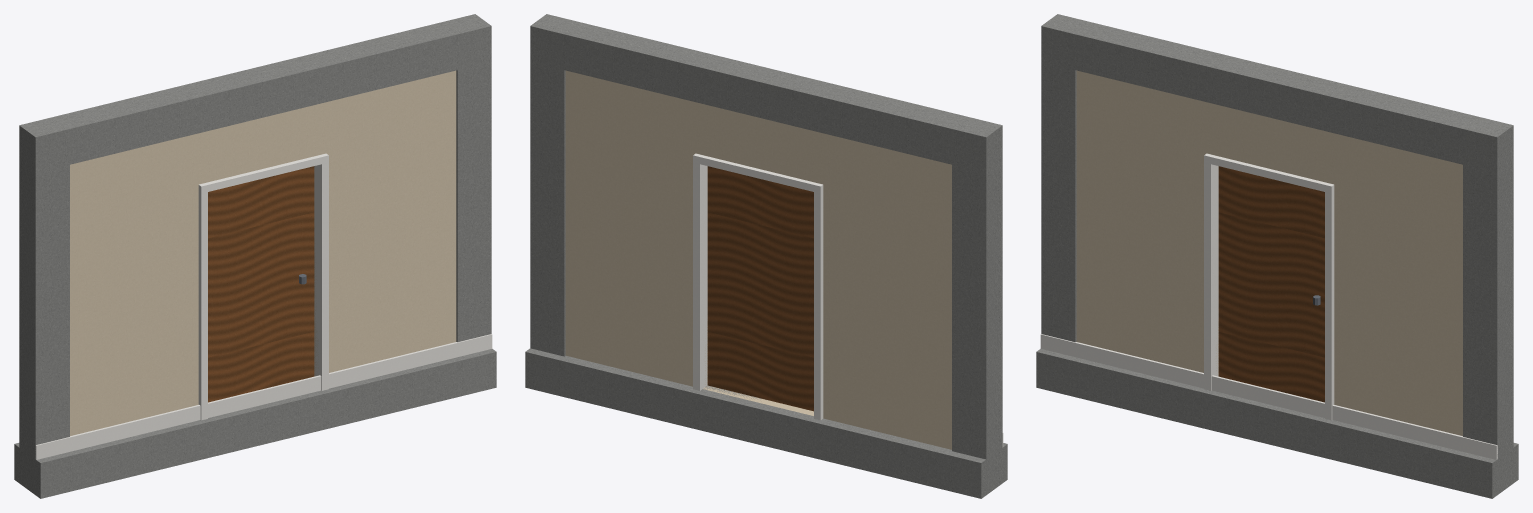
The model's file is estate_wall_door_5f.glb.
3 renders of one model, left to right at view 1: azimuth 30°, elevation 25°; view 2: azimuth 150°, elevation 25°; view 3: azimuth 330°, elevation 25°, orthographic.
Parts seen in each view (by area): view 1: Cube.004, Cube.003, Cube.009, Cube, Cube.001, Cube.002, Cube.005, Cube.007, Cube.006, Cube.008; view 2: Cube.004, Cube.003, Cube.009, Cube, Cube.001, Cube.002, Cube.007, Cube.006, Cube.008; view 3: Cube.004, Cube.003, Cube.009, Cube, Cube.002, Cube.001, Cube.005, Cube.006, Cube.007, Cube.008.
Part boxes in pixels (x1,y1,x2,y2): Cube.004: (70, 70, 456, 435); Cube.003: (19, 14, 491, 172); Cube.009: (208, 166, 314, 402); Cube: (14, 349, 496, 498); Cube.001: (19, 161, 69, 459); Cube.002: (456, 62, 491, 342); Cube.005: (35, 334, 492, 459); Cube.007: (314, 153, 328, 390); Cube.006: (198, 183, 207, 420); Cube.008: (199, 155, 328, 193); Cube.004: (565, 70, 951, 449); Cube.003: (530, 14, 1002, 172); Cube.009: (707, 166, 813, 411); Cube: (525, 348, 1007, 498); Cube.001: (952, 161, 1002, 459); Cube.002: (530, 62, 565, 356); Cube.007: (693, 153, 707, 390); Cube.006: (814, 183, 823, 420); Cube.008: (700, 155, 823, 193); Cube.004: (1076, 70, 1462, 435); Cube.003: (1041, 14, 1513, 172); Cube.009: (1218, 166, 1324, 402); Cube: (1036, 349, 1518, 498); Cube.002: (1463, 161, 1513, 458); Cube.001: (1041, 62, 1076, 342); Cube.005: (1040, 334, 1497, 459); Cube.006: (1204, 153, 1218, 390); Cube.007: (1325, 183, 1334, 420); Cube.008: (1211, 155, 1334, 193).
Bounding box in the file's own units: 4 × 3 × 0.4.
Materials: 5 (5 with a texture image).
